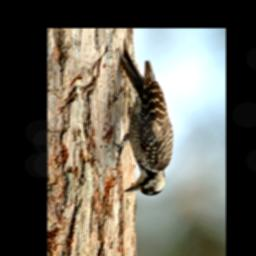Woodpecker: (111, 38, 175, 200)
